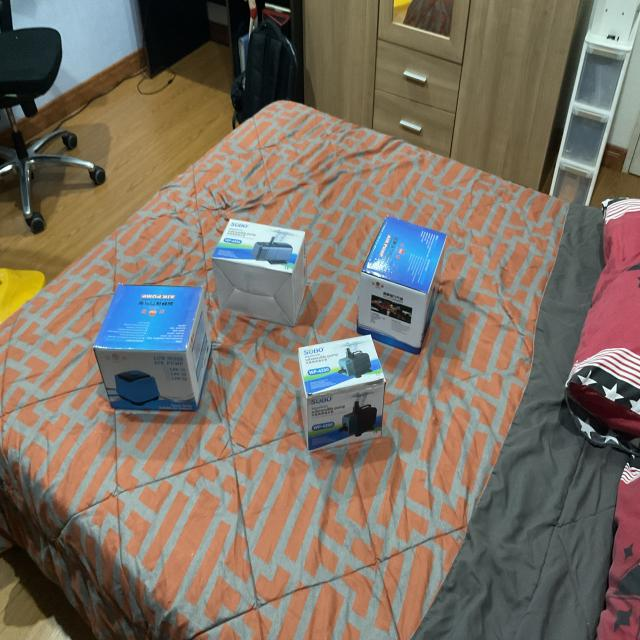SOBO_WP_4200: (207, 208, 319, 334), (291, 338, 400, 464)
YAMANO_LPP_20: (93, 269, 219, 423), (348, 200, 456, 358)
